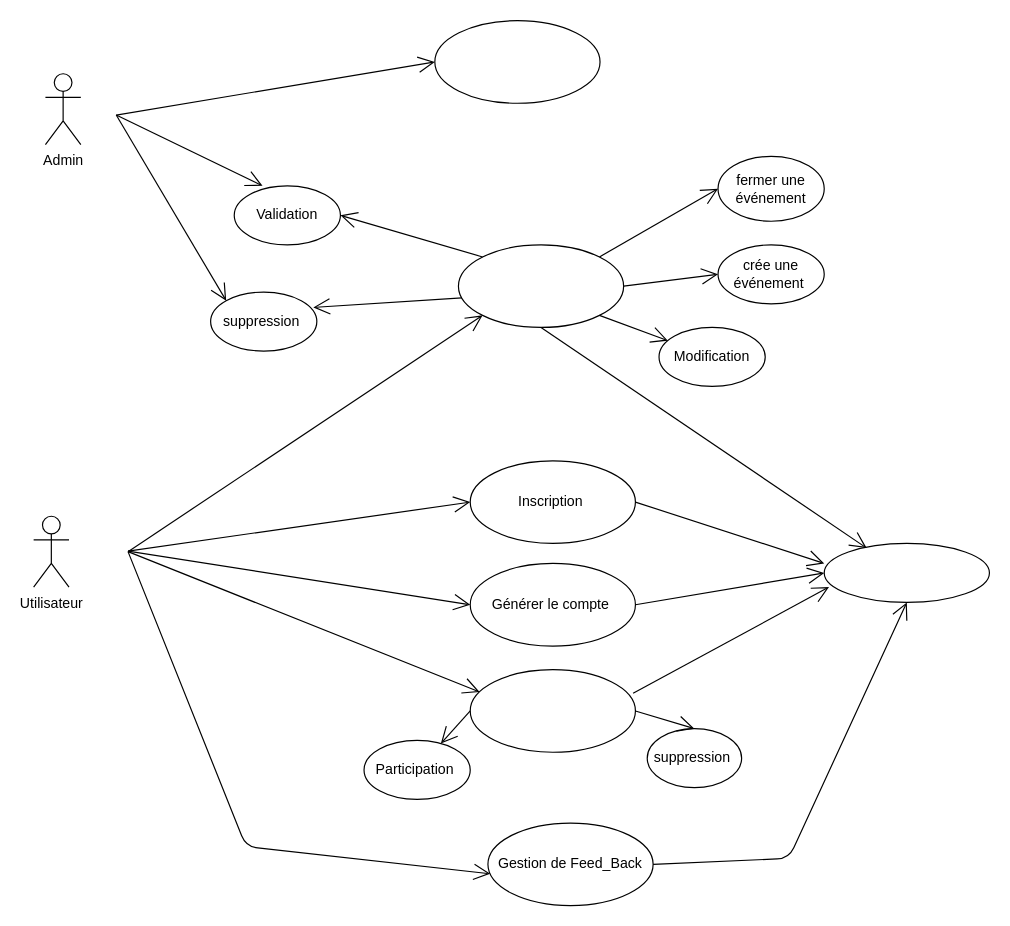
Image size: 1010x926. Some labels were removed from this diagram. Here are the shapes that lost their labels. From the top down, the box of each, then its label:
(434, 19, 600, 103): Gestion d'utilisateur
(457, 244, 624, 327): Gestion D'evenement
(823, 542, 989, 602): Authentification
(469, 668, 635, 752): Gestion de reservation
